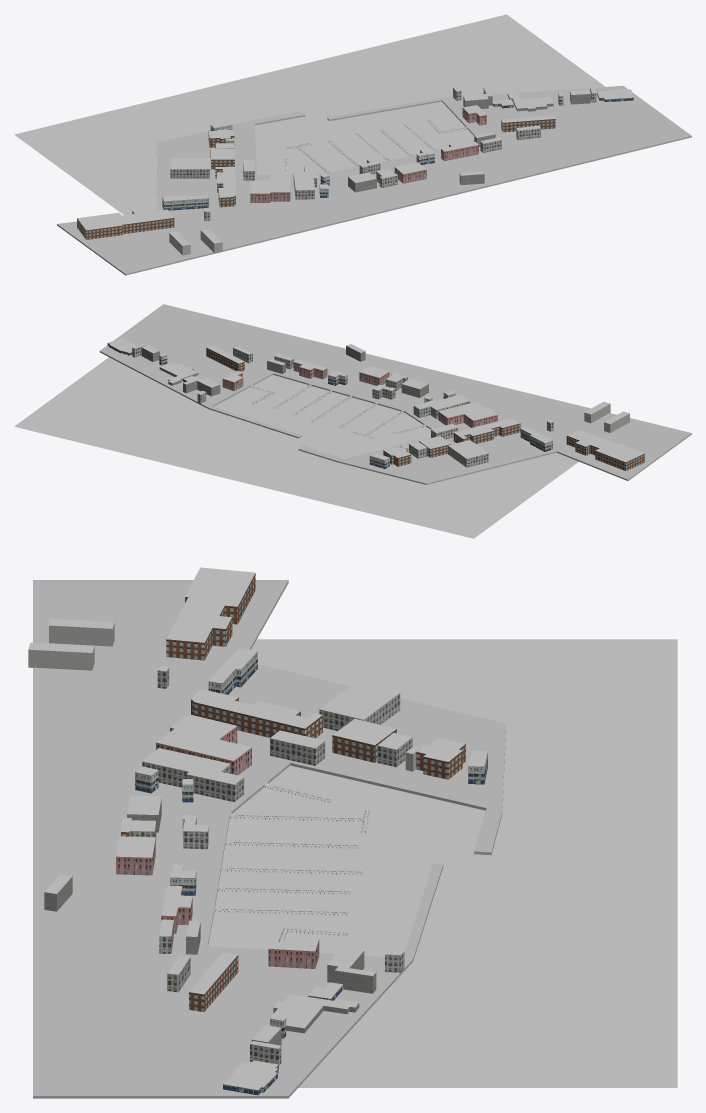
The model's file is Aalborg_Harbor_map_textured.fbx.
The picture shows the model from 3 angles, top to bottom: view 1: azimuth 30°, elevation 25°; view 2: azimuth 150°, elevation 25°; view 3: azimuth 270°, elevation 25°; orthographic projection. The views are drawn at different scales.
Parts seen in each view (by area): view 1: EXPORT_GOOGLE_SAT_WM, Cube, Areas:building, Areas:building.001; view 2: EXPORT_GOOGLE_SAT_WM, Cube, Areas:building, Areas:building.001; view 3: EXPORT_GOOGLE_SAT_WM, Cube, Areas:building.001, Areas:building.
Part boxes in pixels (x1,y1,x2,y2): EXPORT_GOOGLE_SAT_WM: (14,14,605,214); Cube: (57,86,691,275); Areas:building: (77,87,633,255); Areas:building.001: (77,86,633,245); EXPORT_GOOGLE_SAT_WM: (14,357,578,538); Cube: (99,304,691,484); Areas:building: (107,343,644,470); Areas:building.001: (108,338,644,462); EXPORT_GOOGLE_SAT_WM: (208,639,677,1087); Cube: (33,580,505,1098); Areas:building.001: (28,567,487,1089); Areas:building: (28,573,487,1095).
Size of the model in its own units: 123014 by 2512 by 65463.
